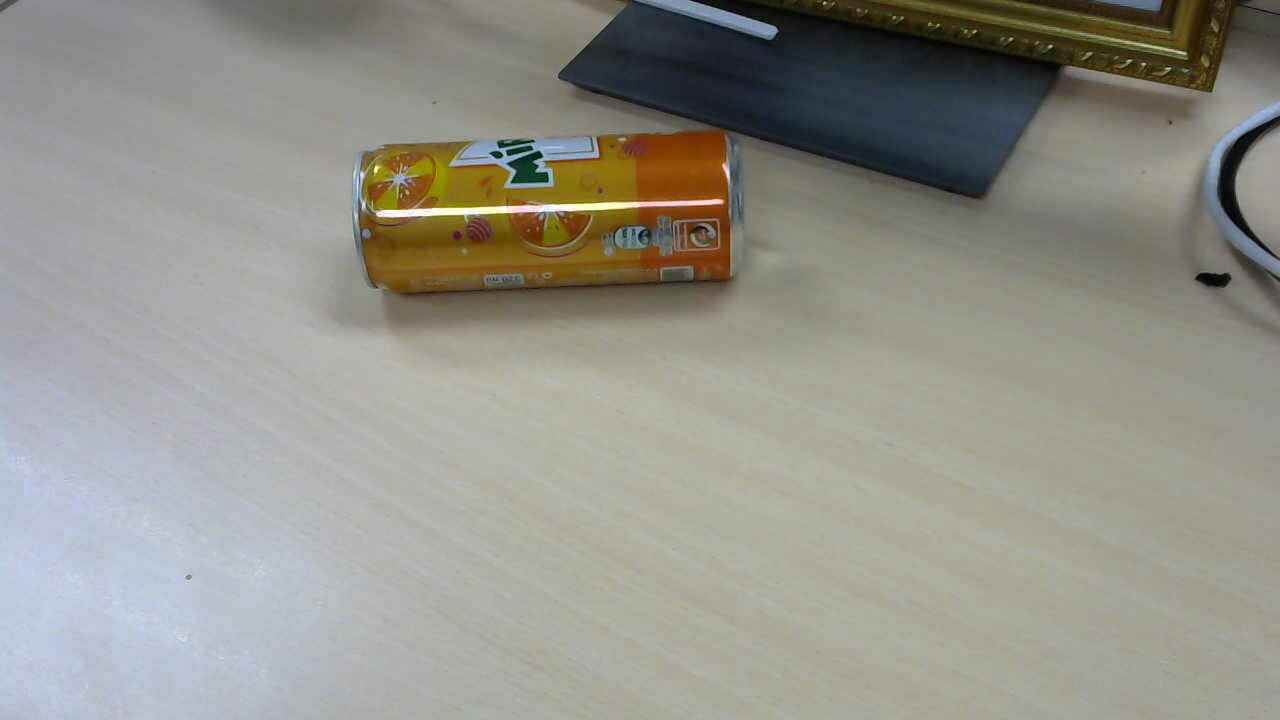Mirinda: (360, 134, 750, 304)
